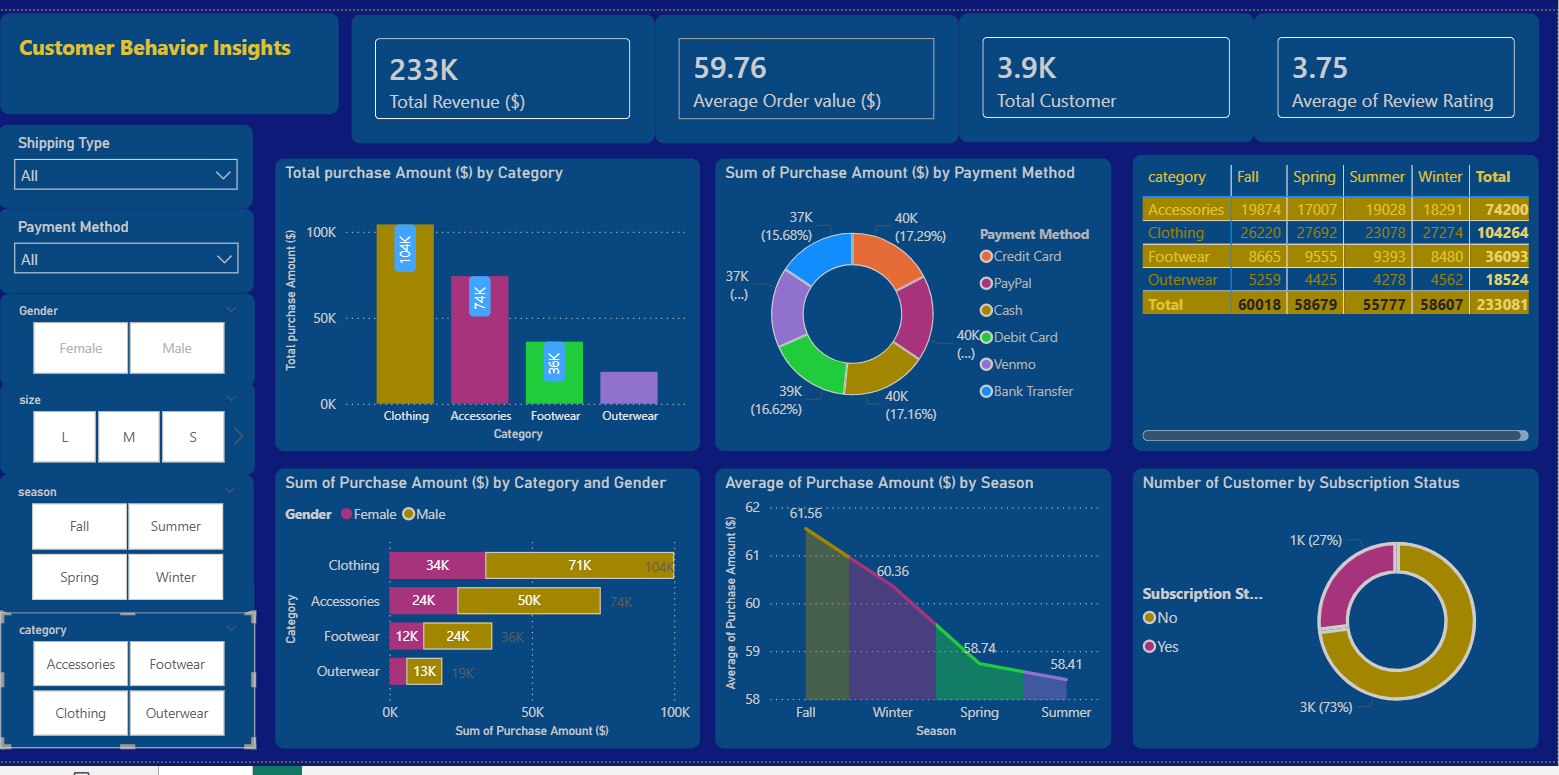

The dashboard page shown, as its layout file describes it:
{"tool":"powerbi","page":{"name":"Page 1","canvas":[1385,667],"ordinal":0},"visuals":[{"type":"cardVisual","fields":{"Data":["Count(retail_customer_analysis_project cleaned_shopping_data.customer_id)"]},"box":[853.1,2.2,262.2,114.4],"z":0},{"type":"cardVisual","fields":{"Data":["Avg(retail_customer_analysis_project cleaned_shopping_data.review_rating)"]},"box":[1115.3,2.2,253.3,114.4],"z":1000},{"type":"cardVisual","fields":{"Data":["Avg(retail_customer_analysis_project cleaned_shopping_data.purchase_amount_(usd))"]},"box":[583.2,3.3,269.9,114.4],"z":2000},{"type":"columnChart","fields":{"Category":["retail_customer_analysis_project cleaned_shopping_data.category"],"Y":["Sum(retail_customer_analysis_project cleaned_shopping_data.purchase_amount_(usd))"]},"box":[245.6,131.1,377.8,260],"z":3000},{"type":"donutChart","fields":{"Category":["retail_customer_analysis_project cleaned_shopping_data.subscription_status"],"Y":["retail_customer_analysis_project cleaned_shopping_data.Number of Customer"]},"box":[1007.8,406.7,361.1,248.9],"z":4000},{"type":"barChart","title":"Sum of Purchase Amount ($) by Category and Gender","fields":{"Series":["retail_customer_analysis_project cleaned_shopping_data.gender"],"Category":["retail_customer_analysis_project cleaned_shopping_data.category"],"Y":["Sum(retail_customer_analysis_project cleaned_shopping_data.purchase_amount_(usd))"]},"box":[245.6,406.7,377.8,248.9],"z":5000},{"type":"donutChart","title":"Sum of Purchase Amount ($) by Payment Method","fields":{"Y":["Sum(retail_customer_analysis_project cleaned_shopping_data.purchase_amount_(usd))"],"Category":["retail_customer_analysis_project cleaned_shopping_data.payment_method"]},"box":[636.7,131.1,352.2,260],"z":6000},{"type":"pivotTable","fields":{"Rows":["retail_customer_analysis_project cleaned_shopping_data.category"],"Columns":["retail_customer_analysis_project cleaned_shopping_data.season"],"Values":["Sum(retail_customer_analysis_project cleaned_shopping_data.purchase_amount_(usd))"]},"box":[1007.8,127.8,361.1,263.3],"z":7000},{"type":"slicer","fields":{"Values":["retail_customer_analysis_project cleaned_shopping_data.category"]},"box":[1.1,534.3,226.6,121.1],"z":8000},{"type":"slicer","fields":{"Values":["retail_customer_analysis_project cleaned_shopping_data.season"]},"box":[0,412.1,226.6,122.2],"z":9000},{"type":"slicer","fields":{"Values":["retail_customer_analysis_project cleaned_shopping_data.size"]},"box":[1.1,329.9,226.6,82.2],"z":10000},{"type":"slicer","fields":{"Values":["retail_customer_analysis_project cleaned_shopping_data.shipping_type"]},"box":[0,101.1,225.5,74.4],"z":11000},{"type":"slicer","fields":{"Values":["retail_customer_analysis_project cleaned_shopping_data.payment_method"]},"box":[0,175.5,226.6,75.5],"z":12000},{"type":"slicer","fields":{"Values":["retail_customer_analysis_project cleaned_shopping_data.gender"]},"box":[1.1,251.1,226.6,82.2],"z":13000},{"type":"cardVisual","fields":{"Data":["Sum(retail_customer_analysis_project cleaned_shopping_data.purchase_amount_(usd))"]},"box":[313.3,3.3,269.9,114.4],"z":14000},{"type":"areaChart","title":"Average of Purchase Amount ($) by Season","fields":{"Category":["retail_customer_analysis_project cleaned_shopping_data.season"],"Y":["Avg(retail_customer_analysis_project cleaned_shopping_data.purchase_amount_(usd))"]},"box":[636.7,406.7,352.2,248.9],"z":15000},{"type":"textbox","box":[1.1,2.2,301,90],"z":16000}]}

Visuals, with their boxes in screenshot pixels (x1, y1, x2, y2):
cardVisual - Count(retail_customer_analysis_project cleaned_shopping_data.customer_id): BBox(975, 39, 1266, 166)
cardVisual - Avg(retail_customer_analysis_project cleaned_shopping_data.review_rating): BBox(1266, 39, 1548, 166)
cardVisual - Avg(retail_customer_analysis_project cleaned_shopping_data.purchase_amount_(usd)): BBox(676, 40, 975, 167)
columnChart - retail_customer_analysis_project cleaned_shopping_data.category x Sum(retail_customer_analysis_project cleaned_shopping_data.purchase_amount_(usd)): BBox(301, 182, 720, 471)
donutChart - retail_customer_analysis_project cleaned_shopping_data.subscription_status x retail_customer_analysis_project cleaned_shopping_data.Number of Customer: BBox(1147, 488, 1548, 764)
"Sum of Purchase Amount ($) by Category and Gender" barChart: BBox(301, 488, 720, 764)
"Sum of Purchase Amount ($) by Payment Method" donutChart: BBox(735, 182, 1126, 471)
pivotTable - retail_customer_analysis_project cleaned_shopping_data.category x retail_customer_analysis_project cleaned_shopping_data.season: BBox(1147, 178, 1548, 471)
slicer - retail_customer_analysis_project cleaned_shopping_data.category: BBox(30, 630, 281, 764)
slicer - retail_customer_analysis_project cleaned_shopping_data.season: BBox(28, 494, 280, 630)
slicer - retail_customer_analysis_project cleaned_shopping_data.size: BBox(30, 403, 281, 494)
slicer - retail_customer_analysis_project cleaned_shopping_data.shipping_type: BBox(28, 149, 279, 231)
slicer - retail_customer_analysis_project cleaned_shopping_data.payment_method: BBox(28, 231, 280, 315)
slicer - retail_customer_analysis_project cleaned_shopping_data.gender: BBox(30, 315, 281, 407)
cardVisual - Sum(retail_customer_analysis_project cleaned_shopping_data.purchase_amount_(usd)): BBox(376, 40, 676, 167)
"Average of Purchase Amount ($) by Season" areaChart: BBox(735, 488, 1126, 764)
textbox: BBox(30, 39, 364, 139)
